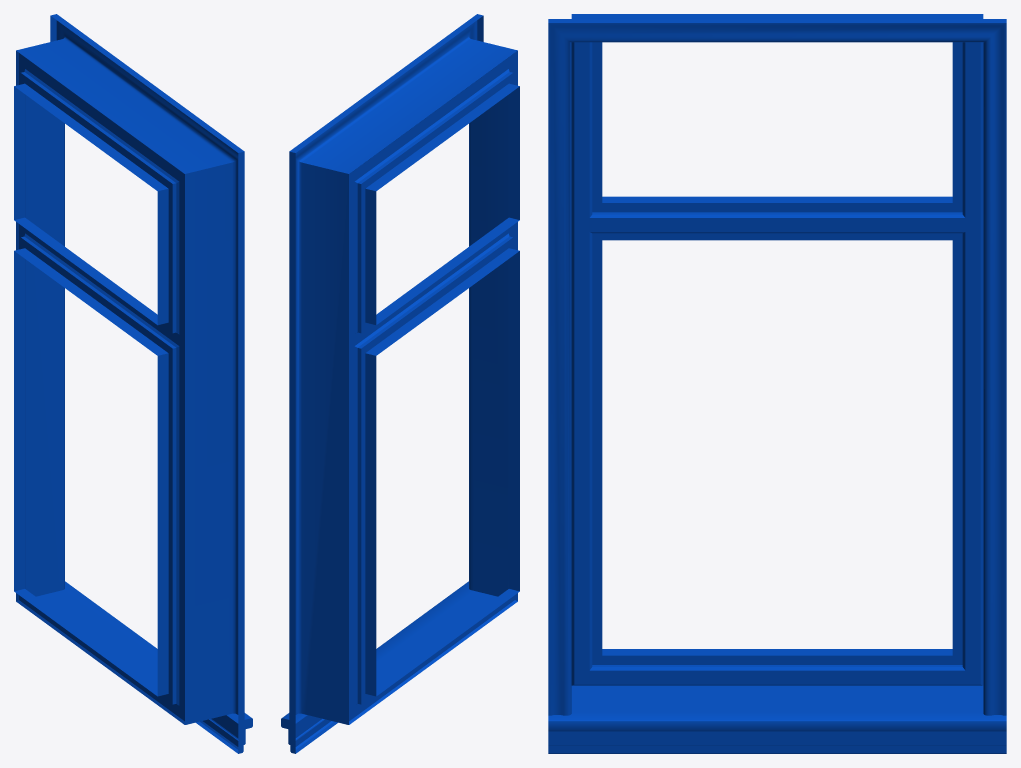
The model's file is window.obj.
3 views of the same model, side by side, from view 1: azimuth 30°, elevation 25°; view 2: azimuth 150°, elevation 25°; view 3: azimuth 270°, elevation 25° (orthographic). The views are drawn at different scales.
Visible parts, largest first — view 1: Body.Courtyard_Template002_Window_reference.smd.mesh_0; view 2: Body.Courtyard_Template002_Window_reference.smd.mesh_0; view 3: Body.Courtyard_Template002_Window_reference.smd.mesh_0.
Boxes of the visible parts, x1=… form: Body.Courtyard_Template002_Window_reference.smd.mesh_0: x1=14, y1=14, x2=252, y2=753; Body.Courtyard_Template002_Window_reference.smd.mesh_0: x1=281, y1=14, x2=519, y2=753; Body.Courtyard_Template002_Window_reference.smd.mesh_0: x1=548, y1=14, x2=1006, y2=753.
Size of the model in its own units: 10 by 78.5 by 44.5.
